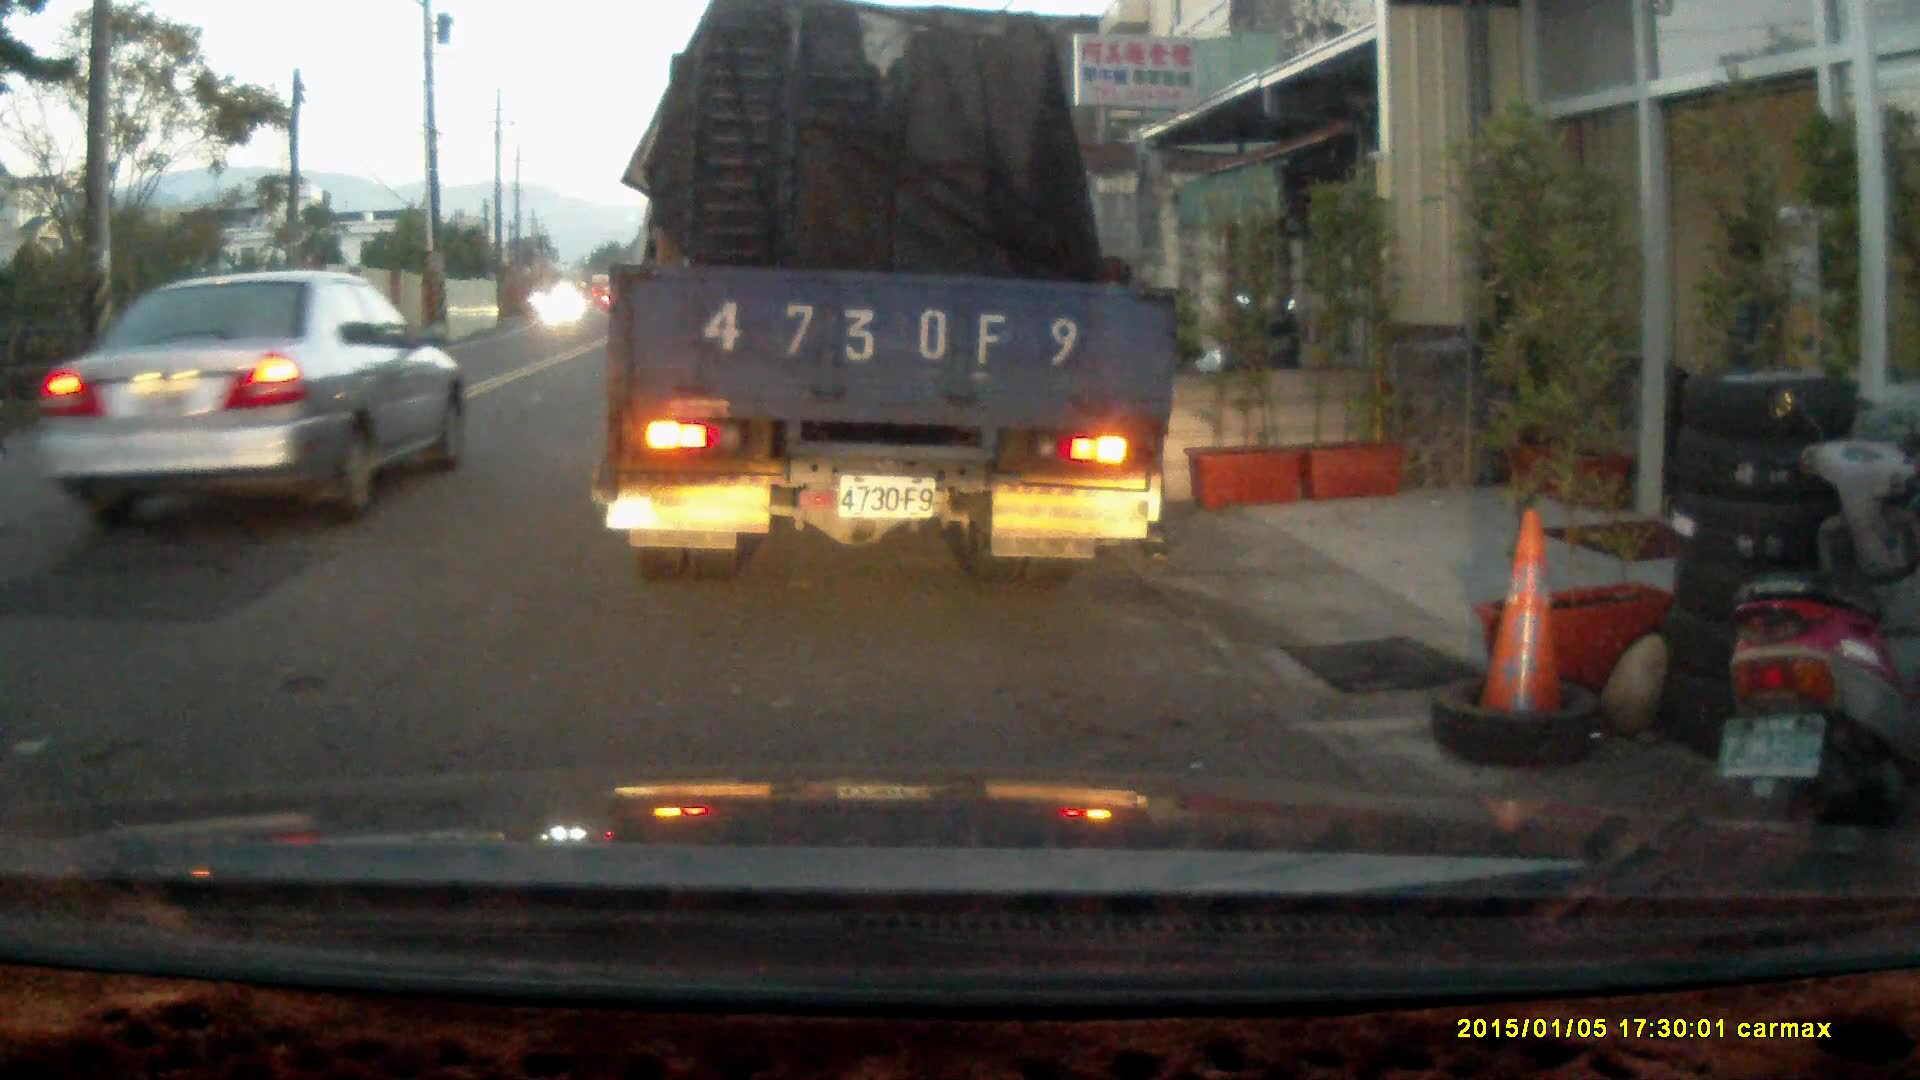pedestrian: (1707, 226, 1795, 476)
vehicle: (605, 23, 1188, 572), (19, 270, 464, 522)
